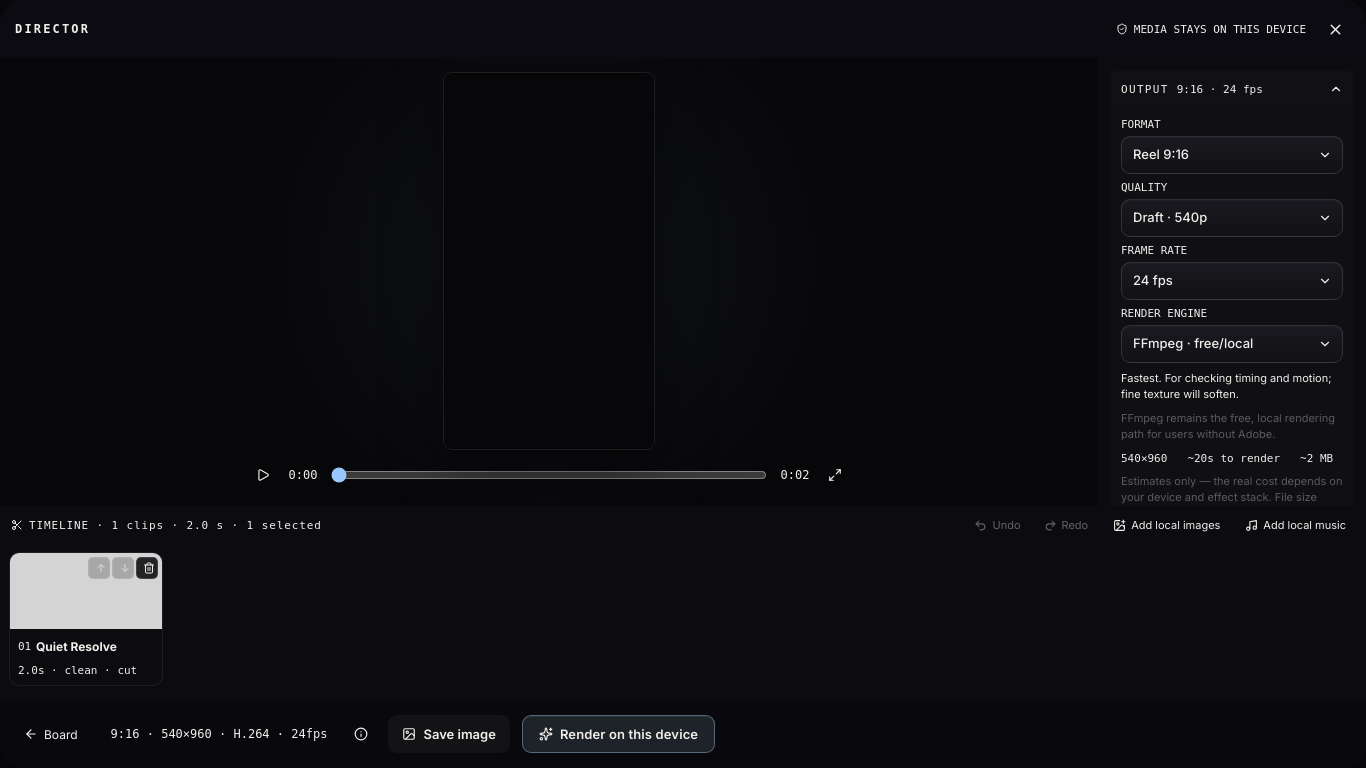
Test: Director Reel Studio render transactions › shows frame progress instead of looking frozen during a heavy render
Click the button "Render on this device": (619,734) [522,715,715,753]
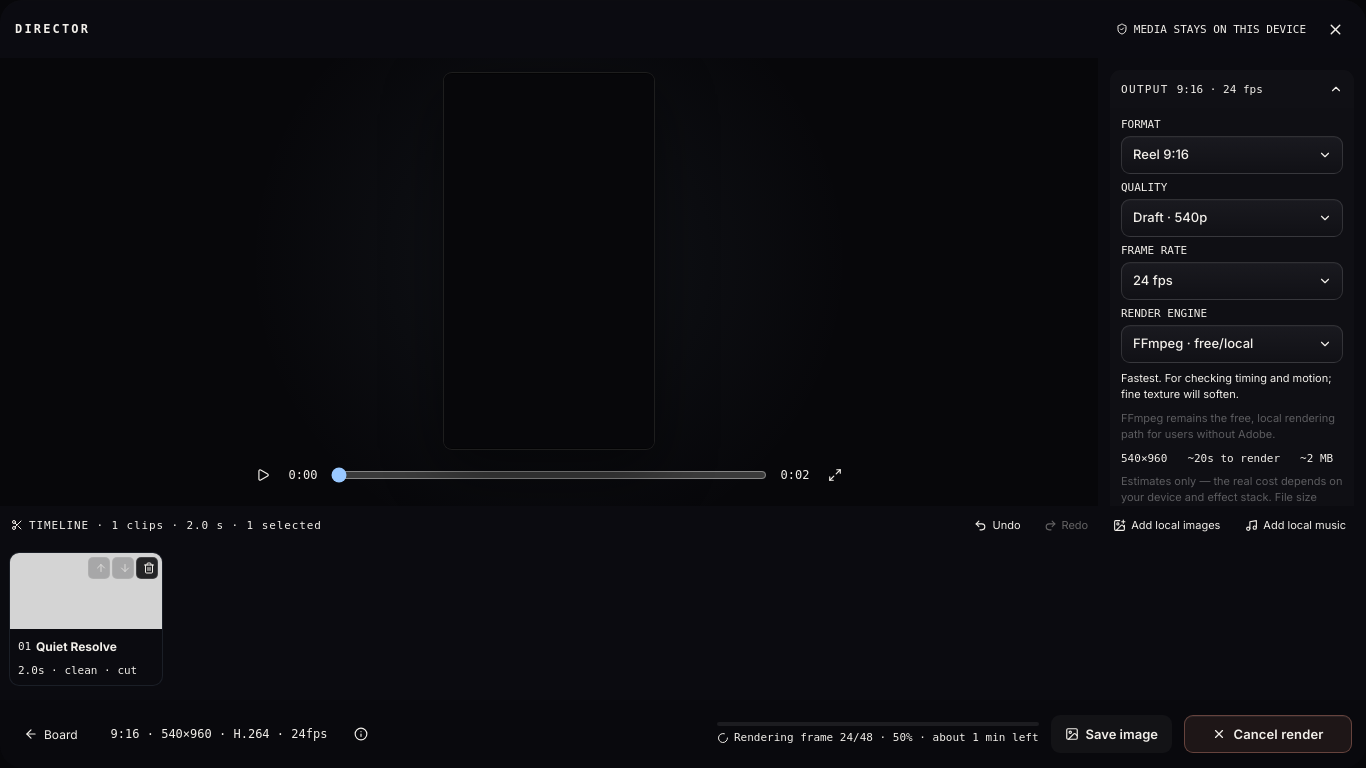
Now the text "Rendering frame 24/48 · 50% · about 1 min left" is shown, box [717,731,1038,746]
